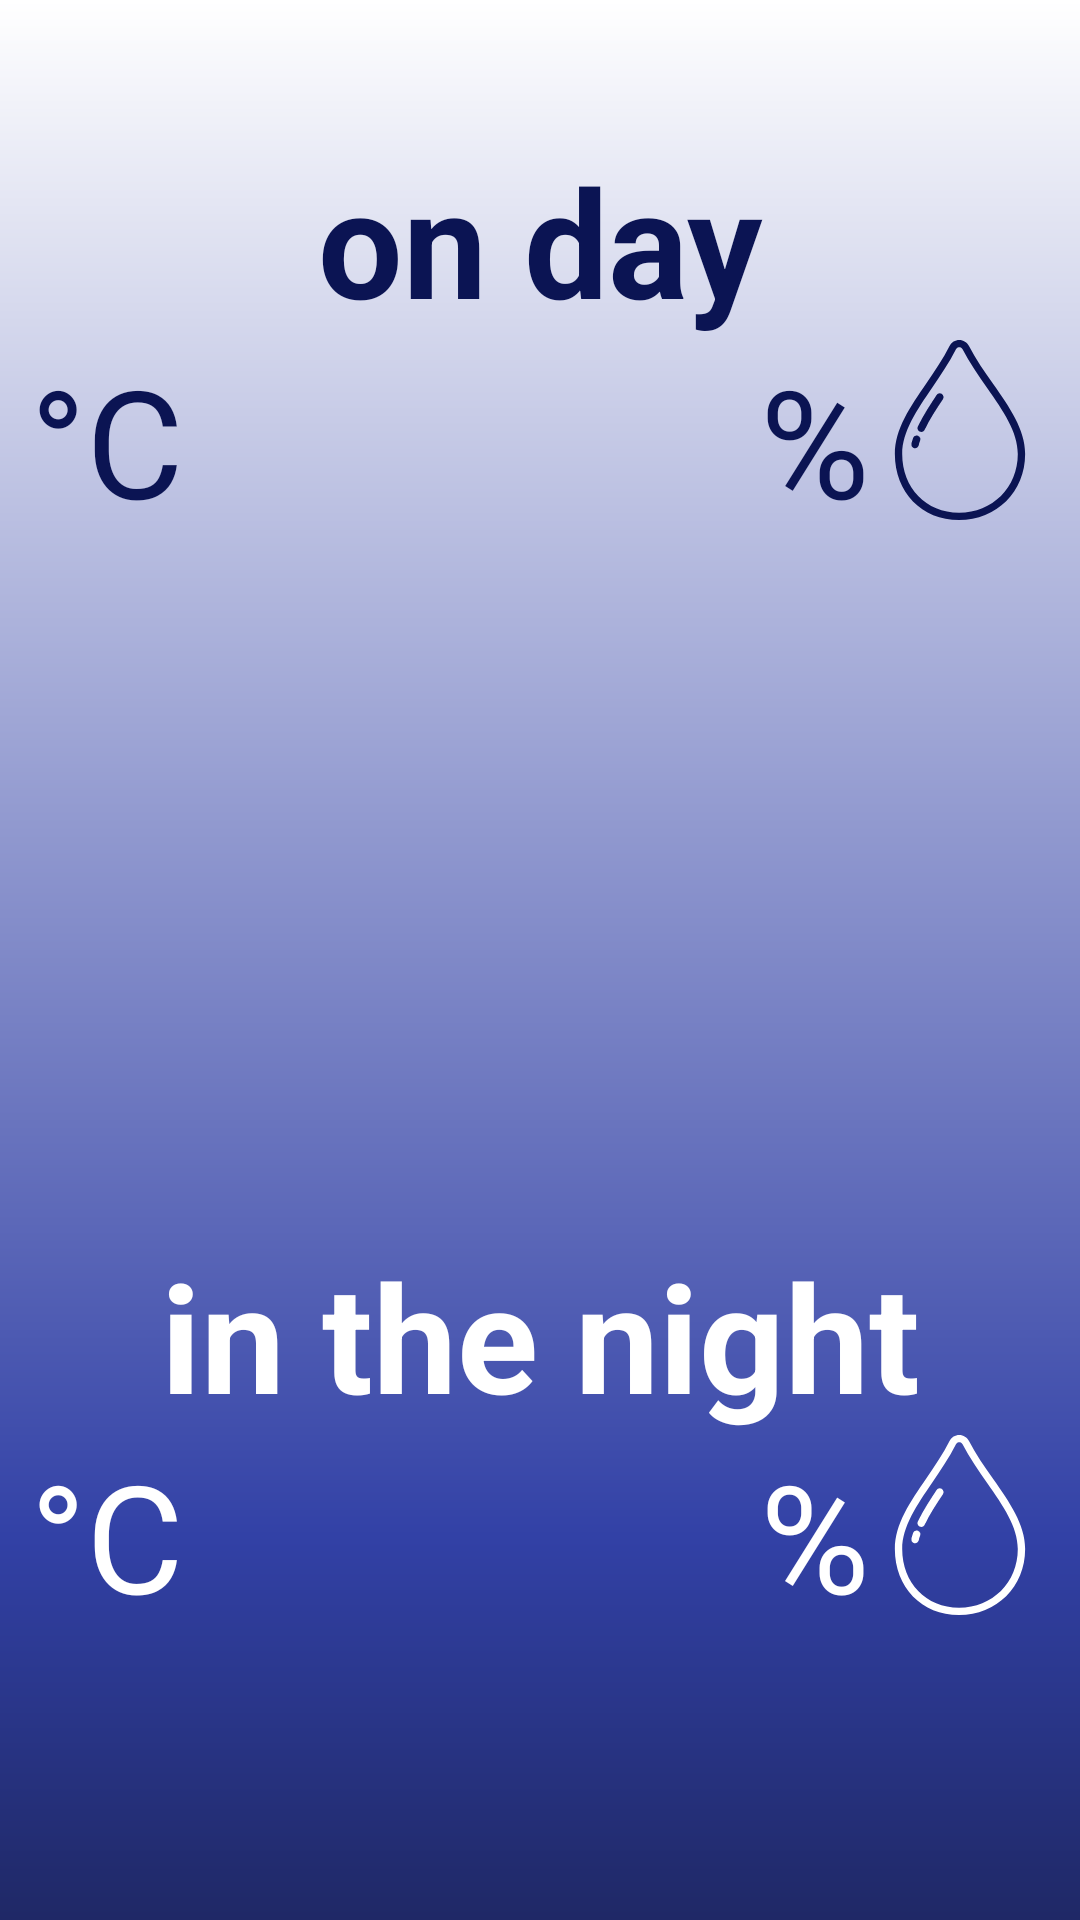

Named icons in this screenshot (1080 × 1920) and their bounding boxes, (x1, y1, x2, y2):
drop: (894, 340, 1026, 520), (895, 1435, 1025, 1615)
